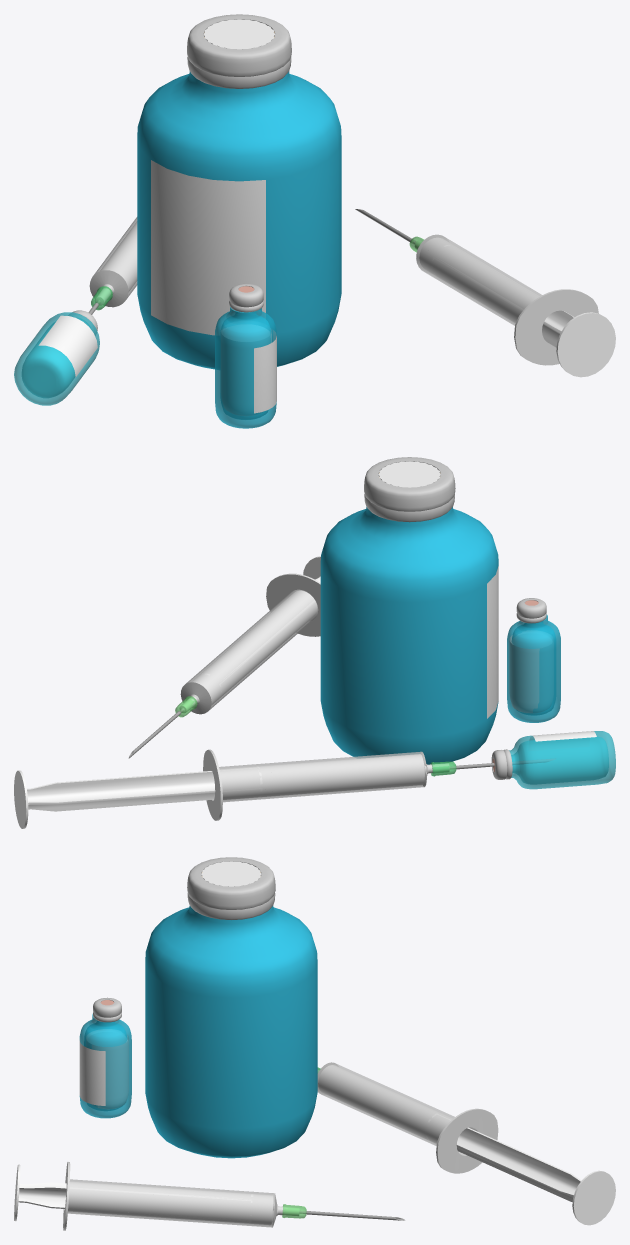
The model's file is medical_kit.gltf.
3 views of the same model, one above another, from view 1: azimuth 30°, elevation 25°; view 2: azimuth 150°, elevation 25°; view 3: azimuth 270°, elevation 25° (orthographic). The views are drawn at different scales.
Parts seen in each view (by area): view 1: bottle_001_Mesh.009, injection_void_001_Mesh.014, potion_002_Mesh.012, potion_001_Mesh.017, bigcup_001_Mesh.019, piston_002_Mesh.013, liquid_unloaded_001_Mesh.010, injection_void_002_Mesh.006, seal_locked_001_Mesh.016, hcup_002_Mesh.011; view 2: bottle_001_Mesh.009, injection_void_002_Mesh.006, injection_void_001_Mesh.014, piston_001_Mesh.015, potion_001_Mesh.017, potion_002_Mesh.012, bigcup_001_Mesh.019, liquid_unloaded_001_Mesh.010, liquid_loaded_001_Mesh.007, seal_locked_001_Mesh.016, hcup_002_Mesh.011, piston_002_Mesh.013 (+3 smaller); view 3: bottle_001_Mesh.009, injection_void_001_Mesh.014, injection_void_002_Mesh.006, piston_001_Mesh.015, potion_002_Mesh.012, bigcup_001_Mesh.019, liquid_unloaded_001_Mesh.010, piston_002_Mesh.013, seal_locked_001_Mesh.016, liquid_loaded_001_Mesh.007, needle_002_Mesh.005, hcup_002_Mesh.011.
Part boxes in pixels (x1,y1,x2,y2): bottle_001_Mesh.009: [137, 71, 341, 369]; injection_void_001_Mesh.014: [415, 234, 598, 365]; potion_002_Mesh.012: [215, 307, 276, 428]; potion_001_Mesh.017: [14, 312, 99, 405]; bigcup_001_Mesh.019: [187, 14, 291, 88]; piston_002_Mesh.013: [431, 245, 615, 377]; liquid_unloaded_001_Mesh.010: [221, 325, 271, 415]; injection_void_002_Mesh.006: [89, 217, 137, 307]; seal_locked_001_Mesh.016: [203, 19, 275, 49]; hcup_002_Mesh.011: [229, 283, 263, 312]; bottle_001_Mesh.009: [320, 507, 498, 764]; injection_void_002_Mesh.006: [203, 749, 449, 820]; injection_void_001_Mesh.014: [180, 573, 320, 714]; piston_001_Mesh.015: [14, 766, 262, 828]; potion_001_Mesh.017: [509, 731, 615, 789]; potion_002_Mesh.012: [507, 614, 560, 722]; bigcup_001_Mesh.019: [364, 457, 455, 522]; liquid_unloaded_001_Mesh.010: [509, 631, 553, 712]; liquid_loaded_001_Mesh.007: [281, 754, 426, 795]; seal_locked_001_Mesh.016: [378, 461, 440, 487]; hcup_002_Mesh.011: [516, 598, 546, 623]; piston_002_Mesh.013: [202, 556, 320, 691]; bottle_001_Mesh.009: [145, 905, 317, 1158]; injection_void_001_Mesh.014: [63, 1162, 298, 1230]; injection_void_002_Mesh.006: [317, 1062, 498, 1173]; piston_001_Mesh.015: [426, 1113, 615, 1225]; potion_002_Mesh.012: [79, 1014, 131, 1118]; bigcup_001_Mesh.019: [187, 857, 275, 919]; liquid_unloaded_001_Mesh.010: [86, 1029, 128, 1109]; piston_002_Mesh.013: [14, 1164, 273, 1223]; seal_locked_001_Mesh.016: [201, 861, 261, 886]; liquid_loaded_001_Mesh.007: [318, 1066, 423, 1132]; needle_002_Mesh.005: [282, 1204, 405, 1220]; hcup_002_Mesh.011: [93, 997, 121, 1022].
Size of the model in its own units: 0.2217 by 0.1351 by 0.2789.
